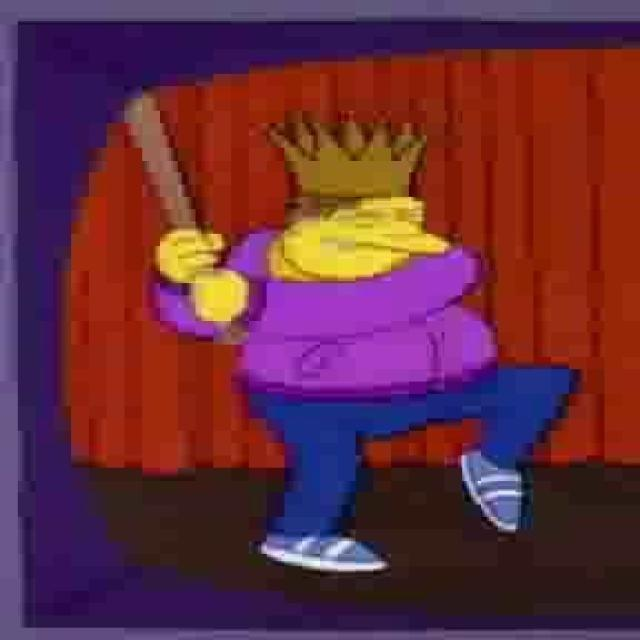Barney Gumble: (268, 181, 457, 284)
